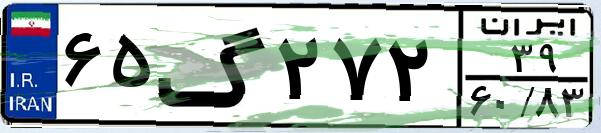0: (495, 70, 520, 125)
2: (270, 28, 330, 110), (385, 28, 445, 110)
3: (560, 70, 590, 125), (508, 27, 537, 80)
5: (110, 28, 156, 98)
6: (57, 26, 110, 100), (470, 70, 495, 125)
7: (330, 28, 385, 110)
8: (535, 70, 560, 125)
9: (537, 27, 568, 80)
گ: (156, 12, 270, 120)
